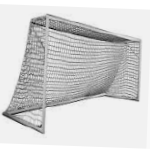goals: (2, 12, 143, 137)
